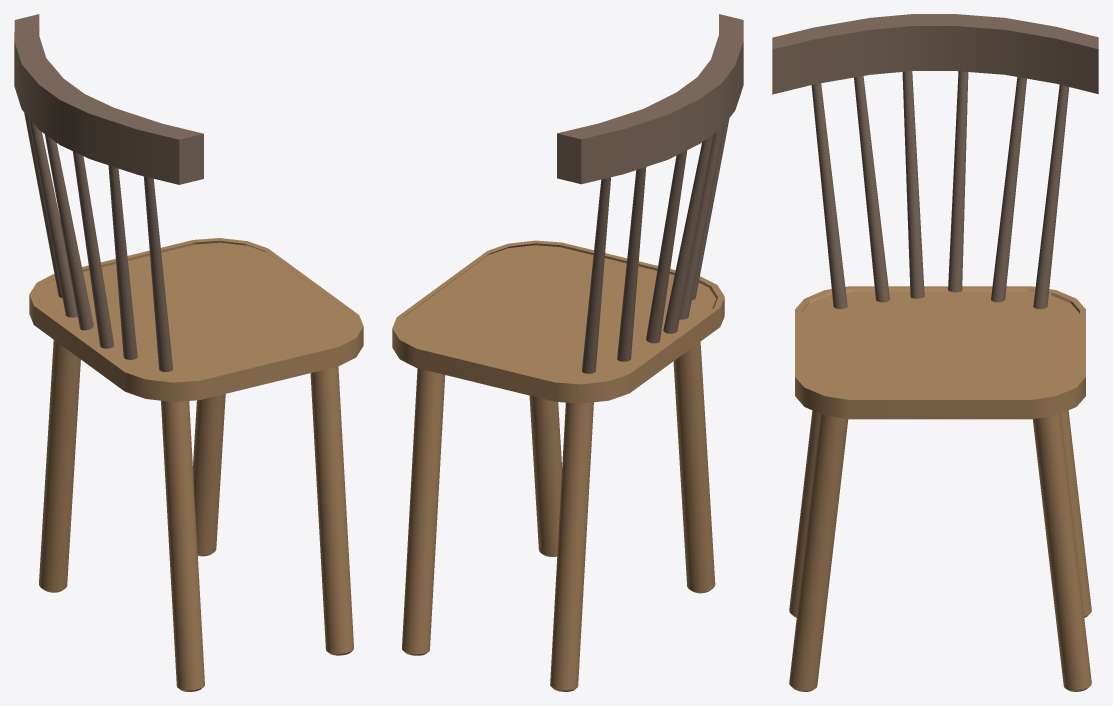
Rendered from chair.fbx.
3 views of the same model, side by side, from view 1: azimuth 30°, elevation 25°; view 2: azimuth 150°, elevation 25°; view 3: azimuth 270°, elevation 25° (orthographic).
Parts seen in each view (by area): view 1: polySurface1; view 2: polySurface1; view 3: polySurface1.
Part boxes in pixels (x1,y1,x2,y2): polySurface1: [14, 14, 363, 691]; polySurface1: [392, 14, 743, 691]; polySurface1: [772, 14, 1098, 691].
Bounding box in the file's own units: 43.38 × 87.88 × 46.
